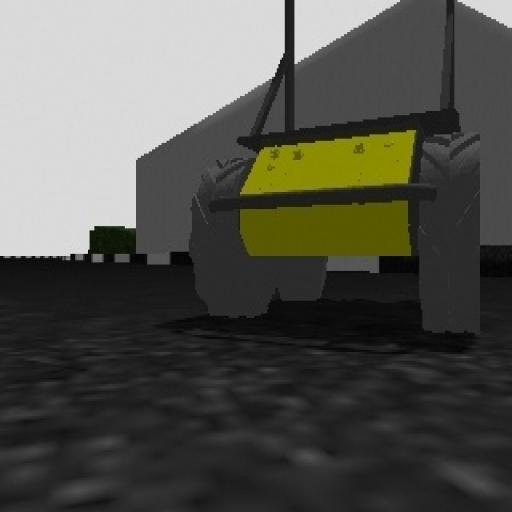huskya200: (190, 0, 508, 364)
